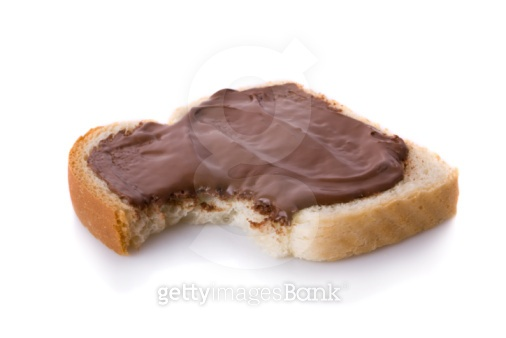slice of bread: (67, 81, 459, 261)
